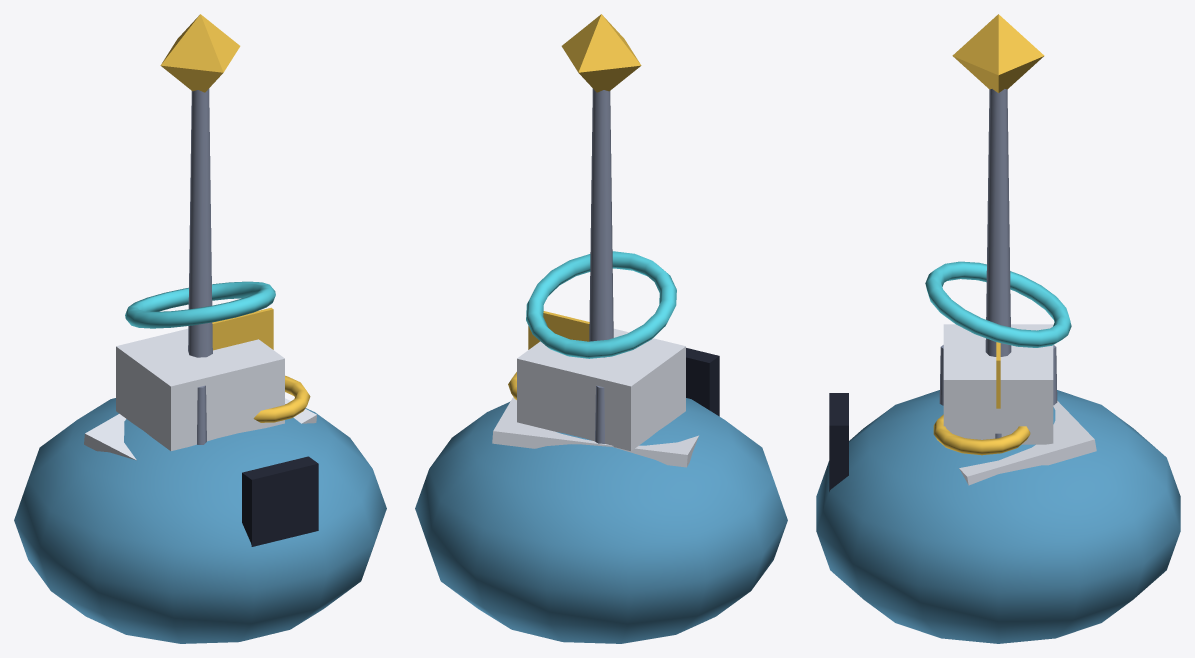
File: mark-kit.glb
The picture shows the model from 3 angles, left to right: view 1: azimuth 30°, elevation 25°; view 2: azimuth 150°, elevation 25°; view 3: azimuth 270°, elevation 25°; orthographic projection.
Visible parts, largest first — view 1: shelter-dome, station-body, shelter-door, beacon-pole, station-dish, beacon-head, stake-flag, repair-plate, repair-handle, station-leg-1; view 2: shelter-dome, station-body, station-dish, beacon-pole, beacon-head, repair-plate, shelter-door, stake-flag, station-leg-2; view 3: shelter-dome, station-body, beacon-pole, station-dish, beacon-head, repair-plate, shelter-door, repair-handle.
Part boxes in pixels (x1,y1,x2,y2): shelter-dome: (14,398,386,643); station-body: (116,328,284,450); shelter-door: (242,456,318,546); beacon-pole: (188,88,212,357); station-dish: (125,281,275,328); beacon-head: (160,14,240,92); stake-flag: (212,307,273,350); repair-plate: (84,398,316,460); repair-handle: (253,375,310,422); station-leg-1: (197,385,206,444); shelter-dome: (415,398,787,643); station-body: (517,328,685,450); station-dish: (526,251,676,358); beacon-pole: (589,88,613,357); beacon-head: (561,14,641,92); repair-plate: (492,397,698,467); shelter-door: (686,348,719,416); stake-flag: (528,311,589,349); station-leg-2: (595,385,604,443); shelter-dome: (816,390,1180,643); station-body: (943,324,1053,444); beacon-pole: (985,89,1011,356); station-dish: (925,261,1071,347); beacon-head: (952,14,1044,92); repair-plate: (959,401,1096,485); shelter-door: (829,393,848,491); repair-handle: (933,414,1030,455).
Bounding box in the file's own units: 3.4 × 6.07 × 3.31.
